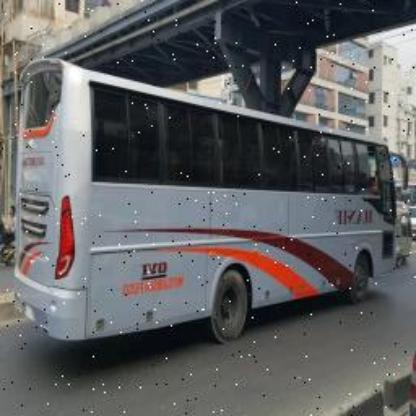bus: (11, 52, 412, 342)
